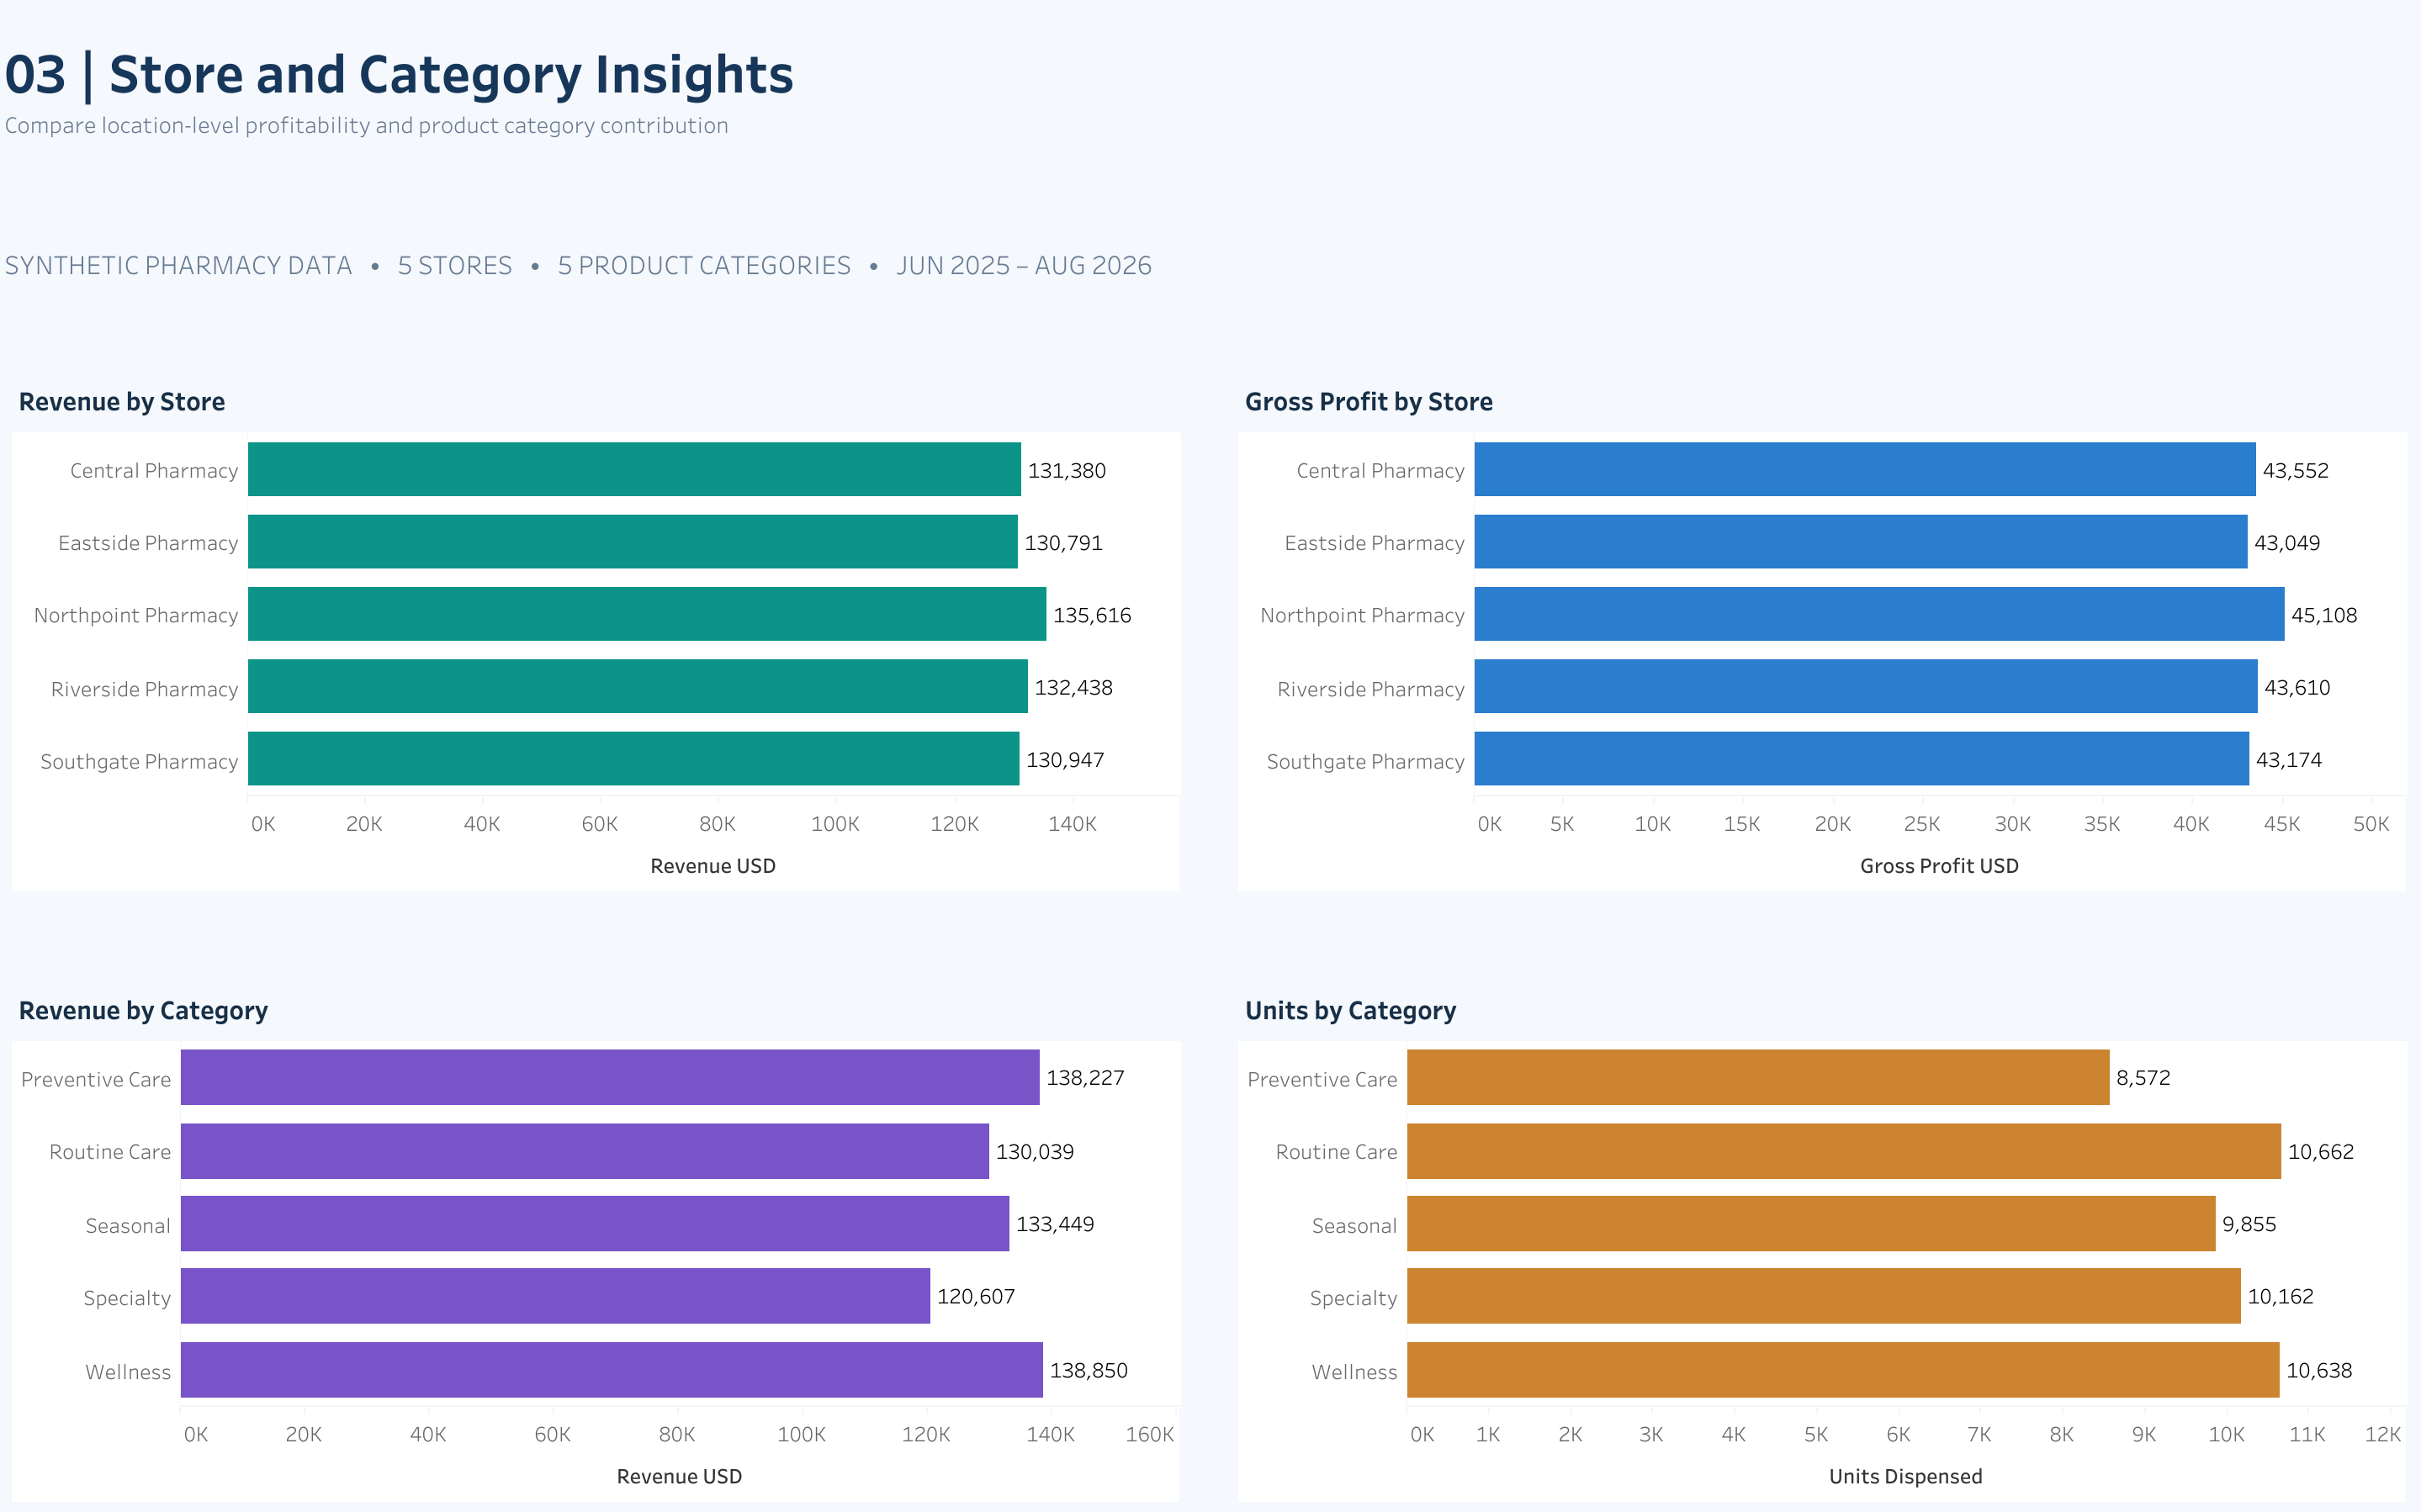

Layout of this report page (visuals, bound fields, positions):
{"tool":"tableau","page":{"name":"03 | Store and Category Insights","canvas":[1440,900],"ordinal":2},"visuals":[{"type":"text","box":[0,0,1437,102.9]},{"type":"text","box":[0,130.4,1440,53.9]},{"type":"worksheet","title":"Stores | Revenue by Store","mark":"Bar","rows":["StoreName"],"cols":["RevenueUSD"],"box":[0,213.7,708,323.5]},{"type":"worksheet","title":"Stores | Gross Profit by Store","mark":"Bar","rows":["StoreName"],"cols":["GrossProfitUSD"],"box":[729,213.7,708,323.5]},{"type":"worksheet","title":"Categories | Revenue by Category","mark":"Bar","rows":["ProductCategory"],"cols":["RevenueUSD"],"box":[0,576.5,708,323.5]},{"type":"worksheet","title":"Categories | Units by Category","mark":"Bar","rows":["ProductCategory"],"cols":["UnitsDispensed"],"box":[729,576.5,708,323.5]}]}

Visuals, with their boxes in screenshot pixels (x1, y1, x2, y2), scaled from the page's 1440x900 canvas onto the 2421x1512 screenshot:
text: left=0, top=0, right=2416, bottom=173
text: left=0, top=219, right=2420, bottom=309
"Stores | Revenue by Store" worksheet (Bar marks): left=0, top=359, right=1190, bottom=902
"Stores | Gross Profit by Store" worksheet (Bar marks): left=1226, top=359, right=2416, bottom=902
"Categories | Revenue by Category" worksheet (Bar marks): left=0, top=969, right=1190, bottom=1511
"Categories | Units by Category" worksheet (Bar marks): left=1226, top=969, right=2416, bottom=1511
